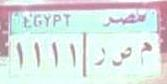1: (31, 41, 44, 70), (15, 41, 26, 71), (68, 42, 78, 71), (51, 40, 60, 67)
meem: (138, 38, 154, 69)
raa: (91, 43, 108, 69)
saad: (112, 46, 132, 69)
